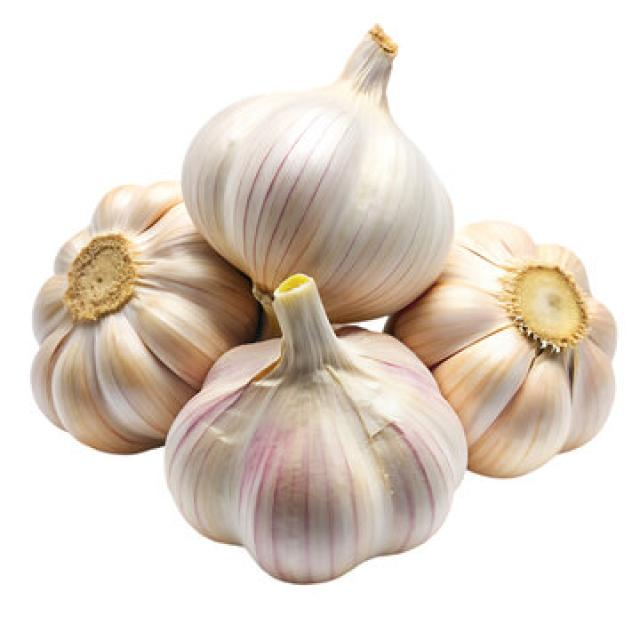Garlic: (162, 272, 468, 585), (180, 21, 455, 336), (28, 180, 260, 455), (382, 219, 617, 478)
